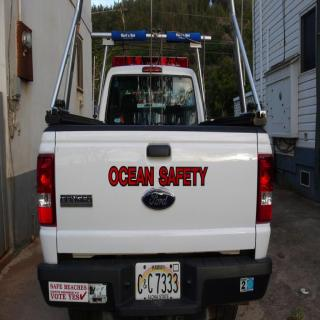license: (134, 264, 183, 306)
